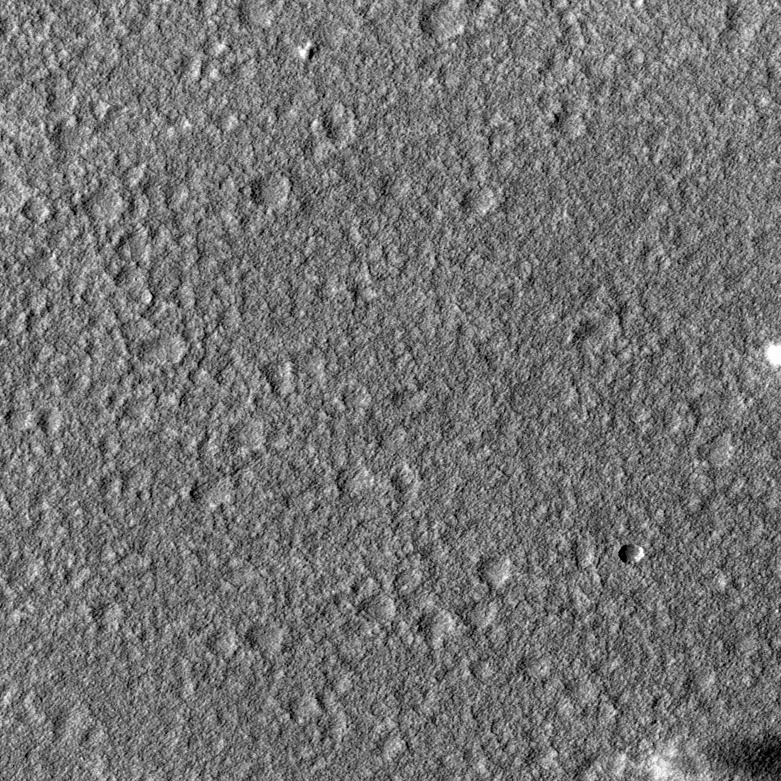dust_devil: (640, 727, 781, 781)
